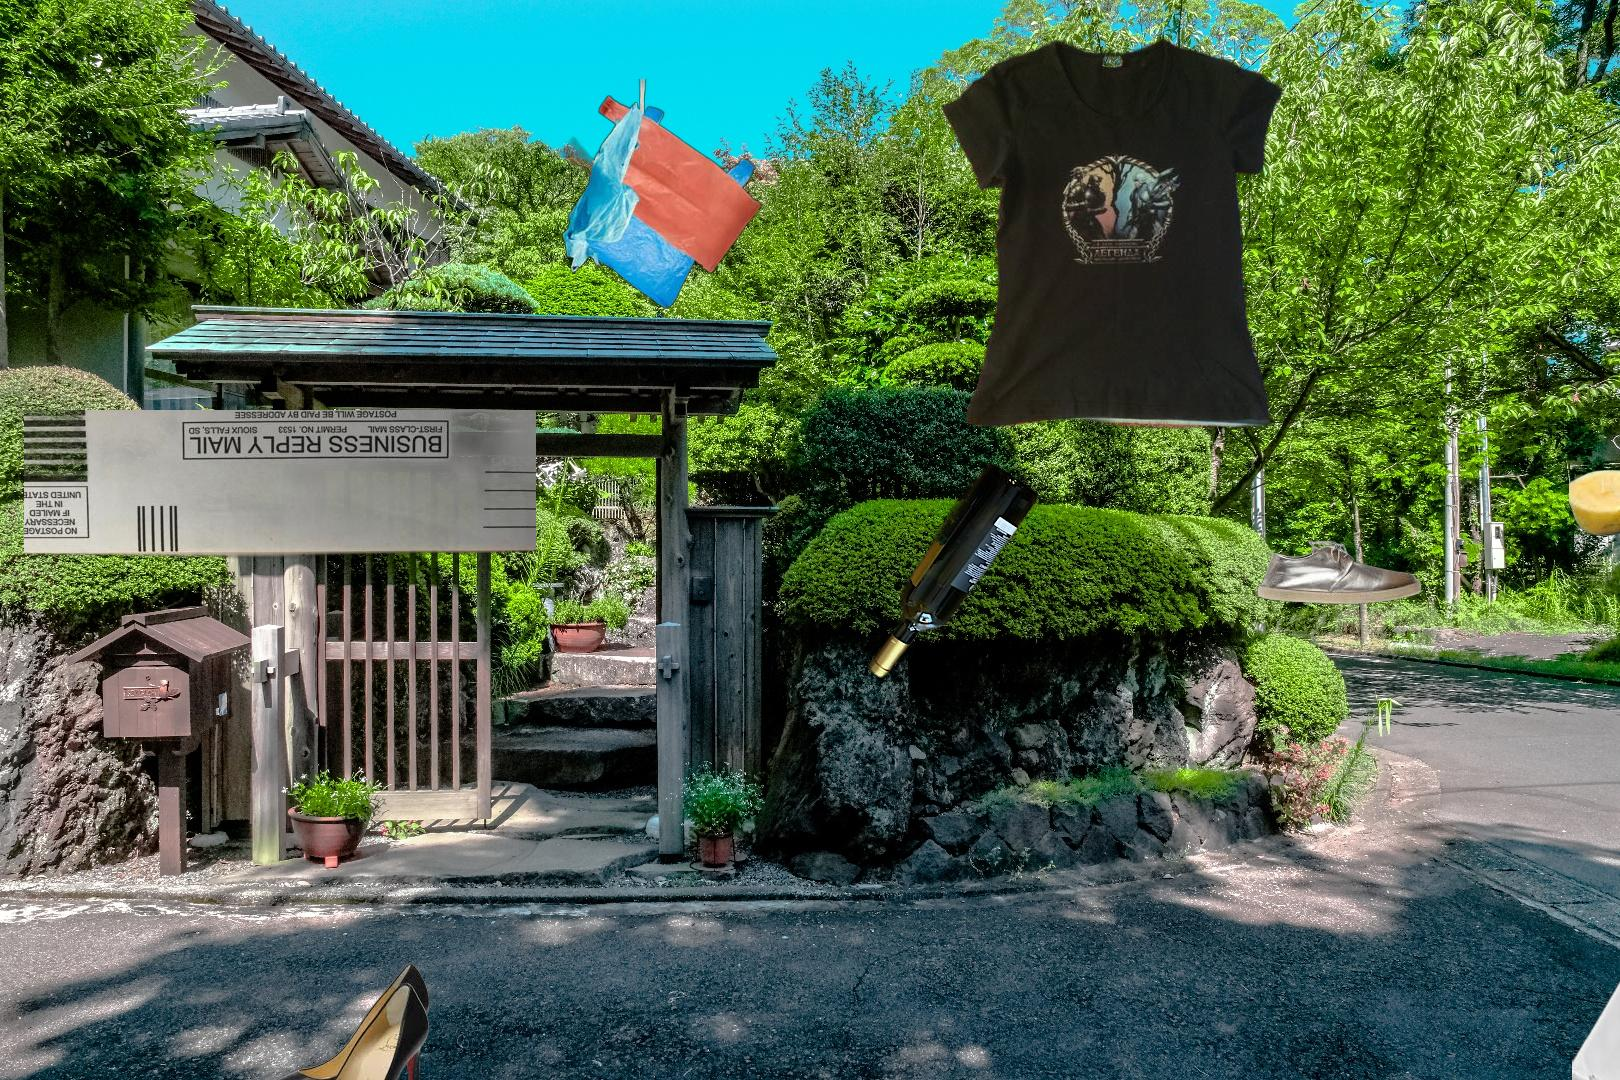biological: (1569, 347, 1620, 541)
clothes: (938, 34, 1287, 440)
glass: (864, 459, 1041, 683)
paper: (24, 410, 536, 560), (1572, 957, 1620, 1080)
plastic-bag: (491, 80, 763, 312)
shoes: (251, 959, 432, 1080), (1255, 539, 1424, 607)
